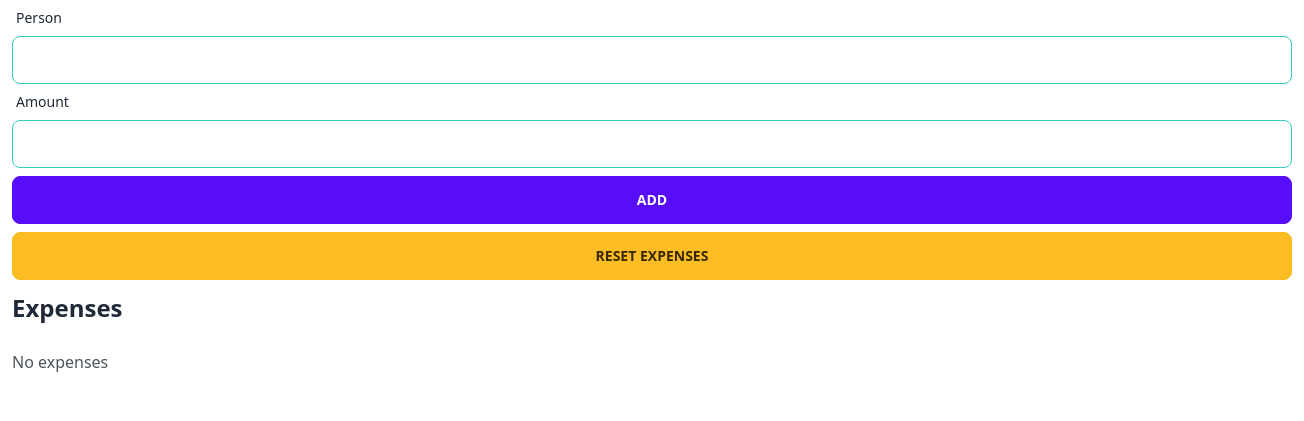
Scenario: Expense Container › Should not add expense if person is empty
Type "100" into the number field labelled "Amount" at (652, 144), box [12,120,1292,168]
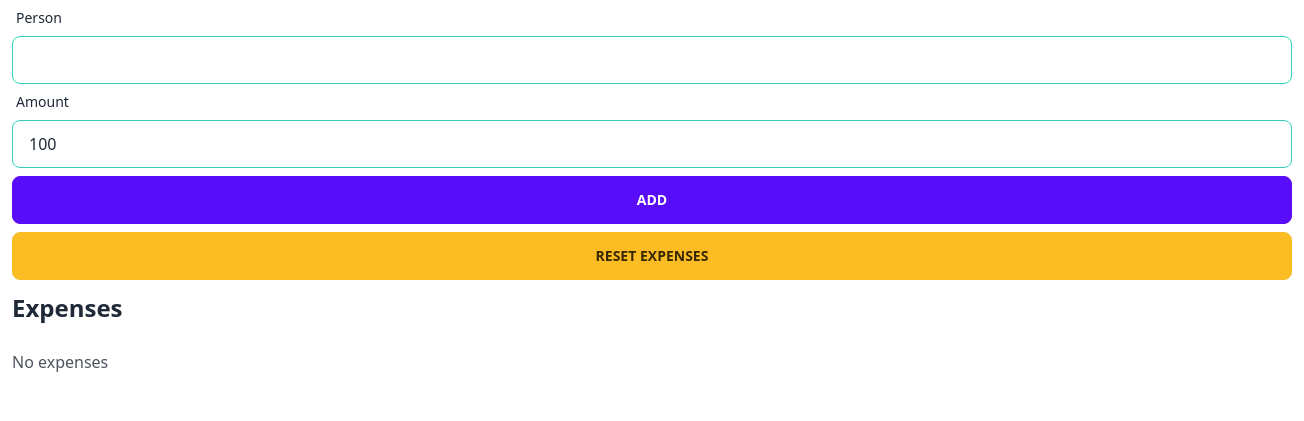
Click the button "Add" at (652, 200), box [12,176,1292,224]
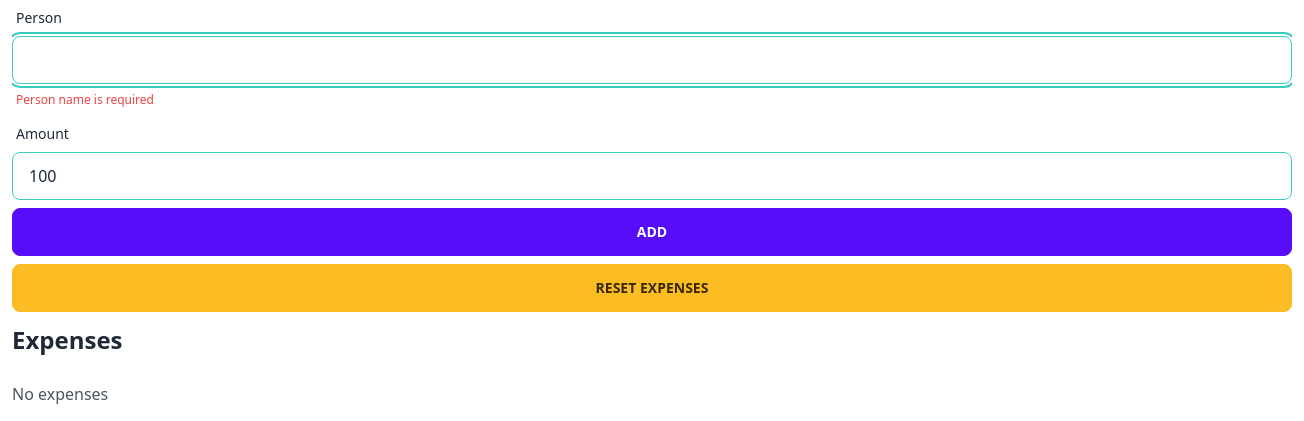
Expected: the text "Person name is required" is shown, [16,92,154,108]
